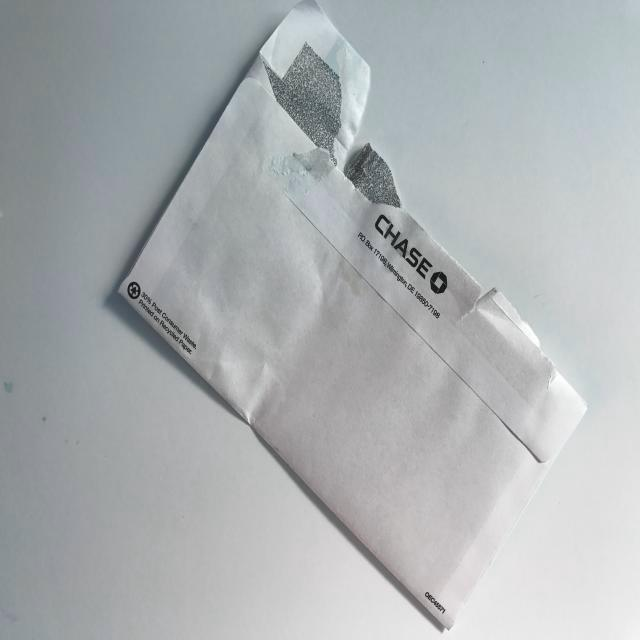paper: (104, 0, 597, 640)
